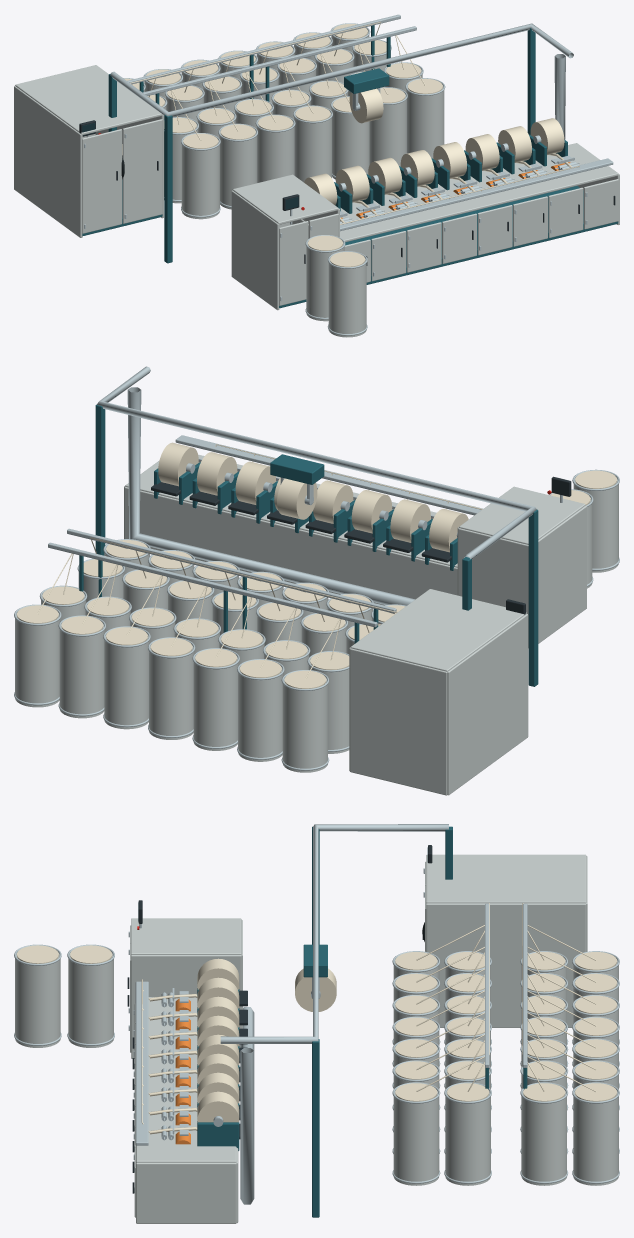
The model's file is combing.glb.
The picture shows the model from 3 angles, top to bottom: view 1: azimuth 30°, elevation 25°; view 2: azimuth 150°, elevation 25°; view 3: azimuth 270°, elevation 25°; orthographic projection. The views are drawn at different scales.
Parts seen in each view (by area): view 1: E40_main_end, E90_bed_roof, E40_main_roof, E90_delivery_head_end, E40_main_door, E40_main_door.001, E26_transport_rail, E90_delivery_head_roof, can_body.001, can_body.003, E90_delivery_head_door, can_body.015 (+44 smaller); view 2: E90_bed_rear, E40_main_rear, E40_main_end, E40_main_roof, E90_delivery_head_end, E90_noil_duct, E26_transport_rail, E90_delivery_head_rear, can_body.017, can_body.027, can_body.029, can_body.025 (+42 smaller); view 3: E40_main_end.001, E40_main_roof, E90_bed_end.001, E90_bed_roof, E90_delivery_head_roof, can_body.015, can_body.014, can_body.029, can_body.028, can_body, can_body.001, E90_delivery_head_end.001 (+47 smaller).
Boxes of the visible parts, left/top/right/bottom form: E40_main_end: left=14, top=86, right=82, bottom=237; E90_bed_roof: left=302, top=143, right=618, bottom=242; E40_main_roof: left=15, top=65, right=162, bottom=135; E90_delivery_head_end: left=231, top=190, right=279, bottom=310; E40_main_door: left=82, top=129, right=122, bottom=233; E40_main_door.001: left=122, top=119, right=162, bottom=223; E26_transport_rail: left=110, top=23, right=573, bottom=116; E90_delivery_head_roof: left=232, top=174, right=338, bottom=224; can_body.001: left=328, top=258, right=366, bottom=337; can_body.003: left=181, top=140, right=219, bottom=219; E90_delivery_head_door: left=279, top=221, right=308, bottom=305; can_body.015: left=406, top=85, right=444, bottom=158; E90_bed_rear: left=124, top=487, right=457, bottom=605; E40_main_rear: left=350, top=648, right=447, bottom=795; E40_main_end: left=447, top=614, right=528, bottom=795; E40_main_roof: left=350, top=589, right=526, bottom=671; E90_delivery_head_end: left=538, top=505, right=586, bottom=643; E90_noil_duct: left=127, top=387, right=414, bottom=605; E26_transport_rail: left=97, top=366, right=536, bottom=559; E90_delivery_head_rear: left=458, top=528, right=528, bottom=647; can_body.017: left=282, top=678, right=327, bottom=772; can_body.027: left=59, top=624, right=104, bottom=718; can_body.029: left=15, top=613, right=60, bottom=707; can_body.025: left=104, top=635, right=149, bottom=729; E40_main_end.001: left=426, top=903, right=586, bottom=1027; E40_main_roof: left=426, top=854, right=586, bottom=903; E90_bed_end.001: left=136, top=1162, right=236, bottom=1223; E90_bed_roof: left=136, top=997, right=236, bottom=1162; E90_delivery_head_roof: left=131, top=918, right=241, bottom=954; can_body.015: left=393, top=1091, right=439, bottom=1185; can_body.014: left=445, top=1090, right=490, bottom=1185; can_body.029: left=573, top=1090, right=618, bottom=1185; can_body.028: left=521, top=1091, right=566, bottom=1185; can_body: left=68, top=953, right=113, bottom=1047; can_body.001: left=15, top=953, right=60, bottom=1047; E90_delivery_head_end.001: left=131, top=955, right=241, bottom=1058.
Bounding box in the file's own units: 7.61 × 2.59 × 7.96.
